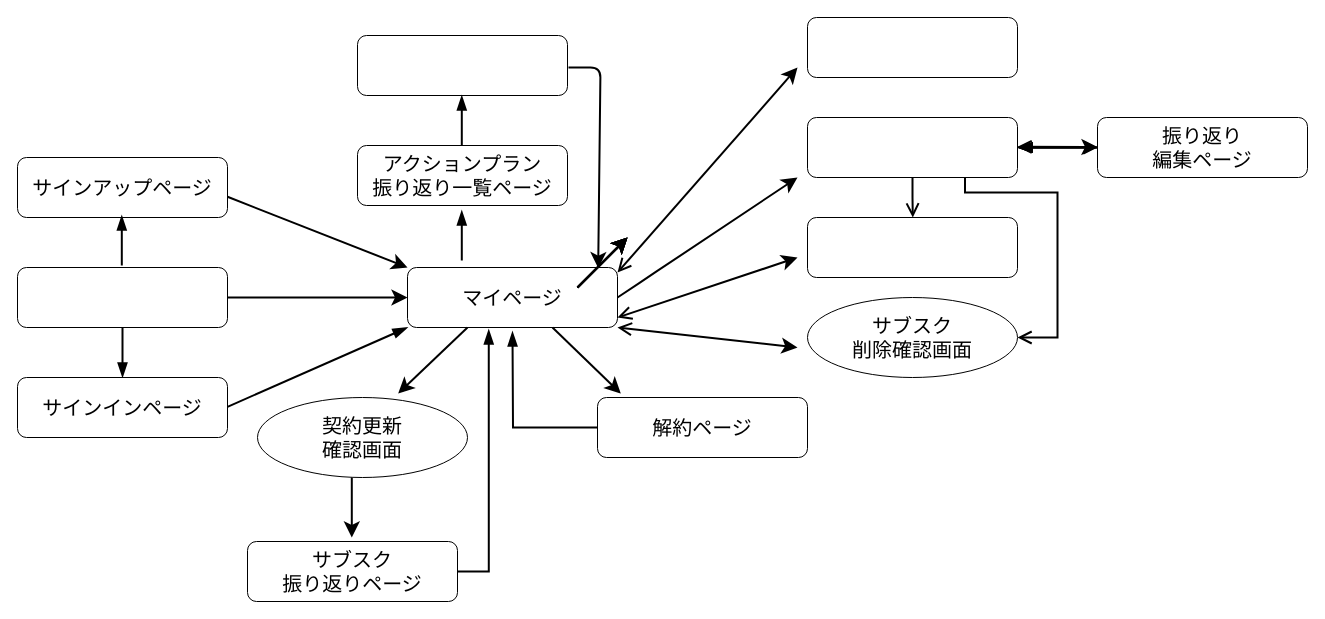
This 1325x619 diagram has some shape labels left out. The shapes that lost their labels are listed below. From the top down, each one's box as (x1, y1, x2, y2) in pixels, then its label:
(356, 34, 568, 96): アクションプラン 編集ページ
(806, 16, 1018, 78): サブスク 登録ページ
(806, 116, 1018, 178): サブスク 詳細ページ
(806, 216, 1018, 278): サブスク 編集ページ
(16, 266, 228, 328): Topページ
